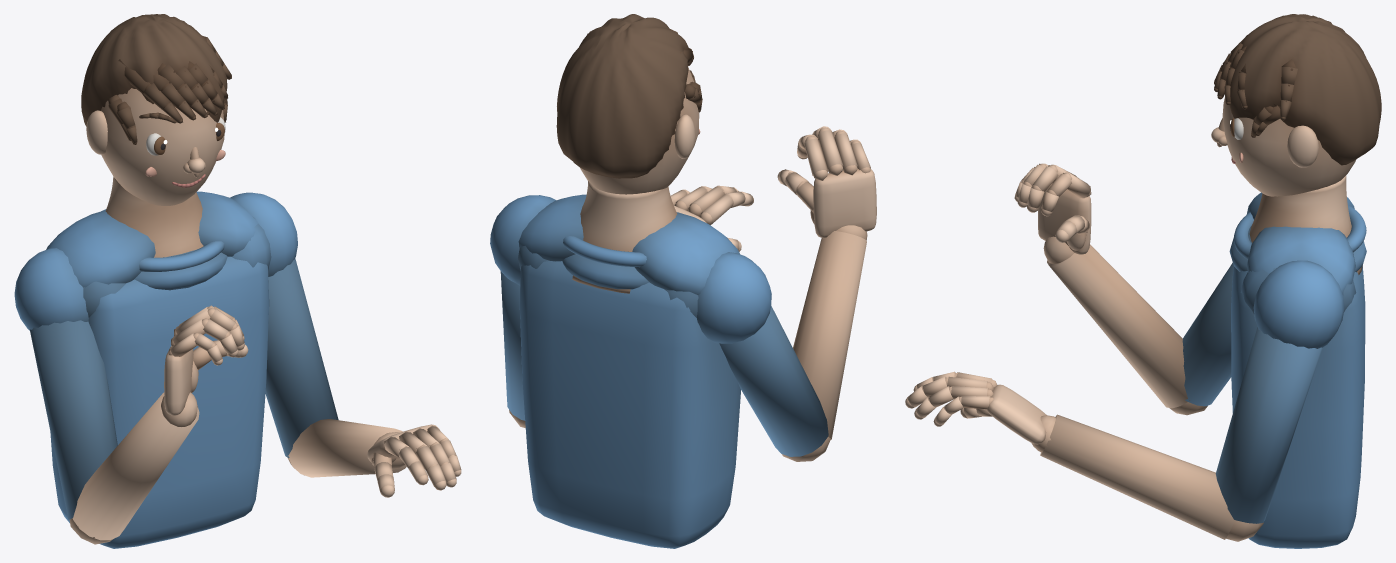
3 renders of one model, left to right at view 1: azimuth 30°, elevation 25°; view 2: azimuth 150°, elevation 25°; view 3: azimuth 270°, elevation 25°, orthographic.
Parts seen in each view (by area): view 1: LSC_Body; view 2: LSC_Body; view 3: LSC_Body.
Part boxes in pixels (x1,y1,x2,y2): LSC_Body: (14,14,461,548); LSC_Body: (490,14,876,548); LSC_Body: (905,14,1381,548).
Size of the model in its own units: 0.4304 by 0.713 by 0.6104.
